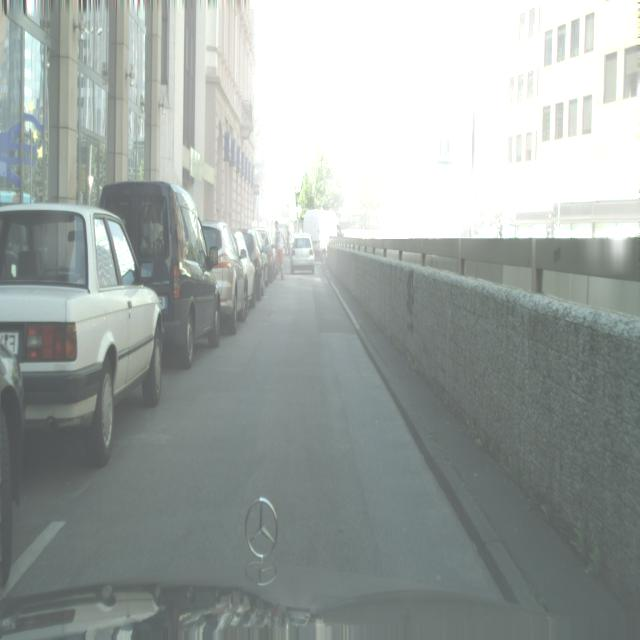motorcycle: (303, 208, 339, 262)
person: (274, 222, 284, 279)
truck: (0, 201, 165, 468), (99, 181, 221, 370), (201, 219, 249, 334), (233, 229, 258, 305), (241, 231, 265, 301), (248, 225, 274, 287), (290, 233, 315, 274)
